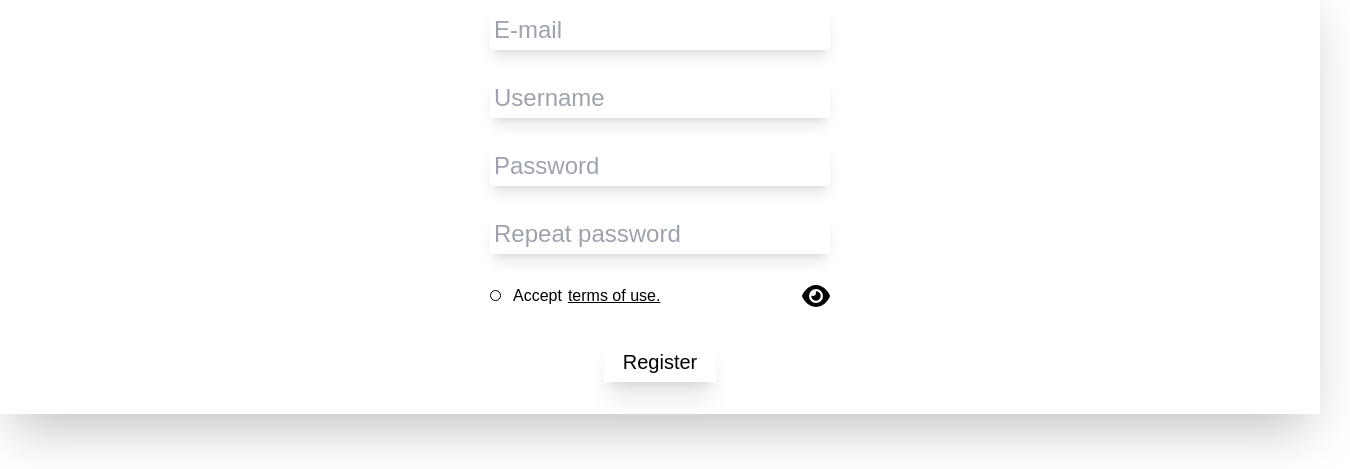
RegisterForm › should show username error if username exists
Type "takenUsername" into the field with placeholder "Username" at point(660, 98), box [490, 78, 830, 118]
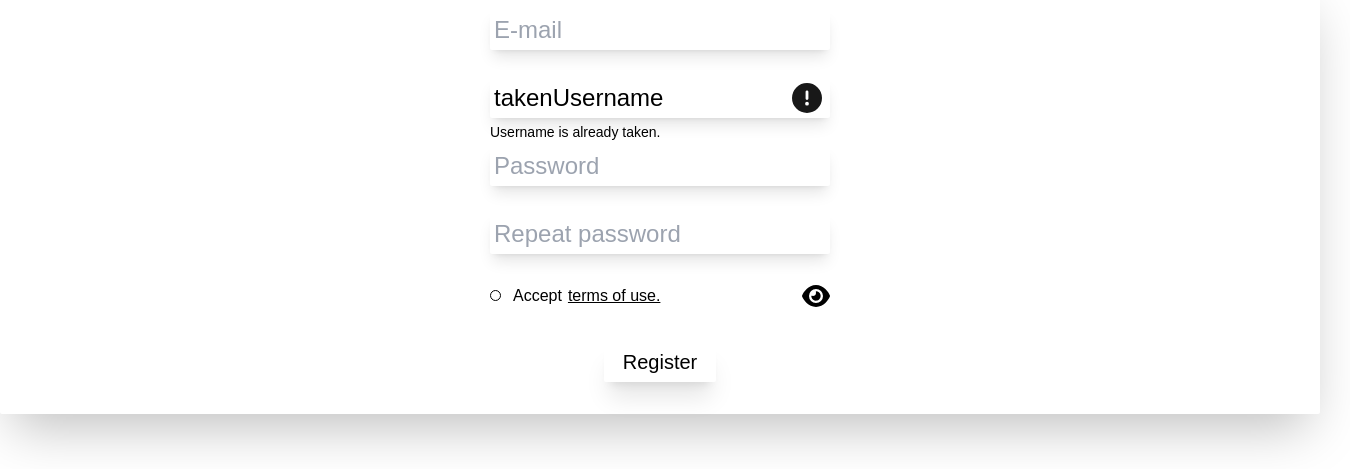
Expected: the text "Username is already taken." is shown, [490, 122, 660, 142]
